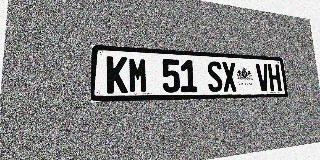1: (180, 60, 197, 92)
5: (162, 59, 181, 93)
H: (268, 64, 282, 91)
K: (106, 56, 128, 94)
M: (128, 57, 148, 93)
S: (207, 61, 223, 92)
V: (255, 63, 270, 91)
X: (221, 62, 237, 92)
